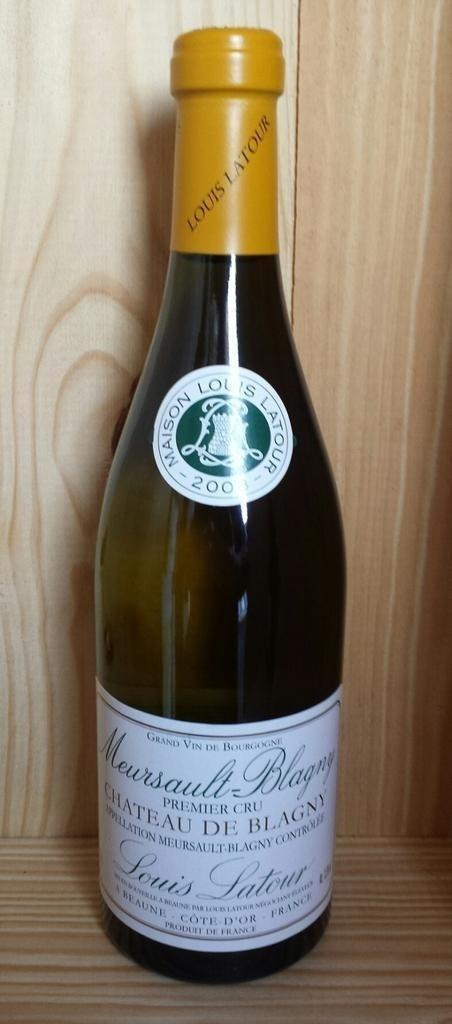bottle-glass: (86, 26, 348, 987)
